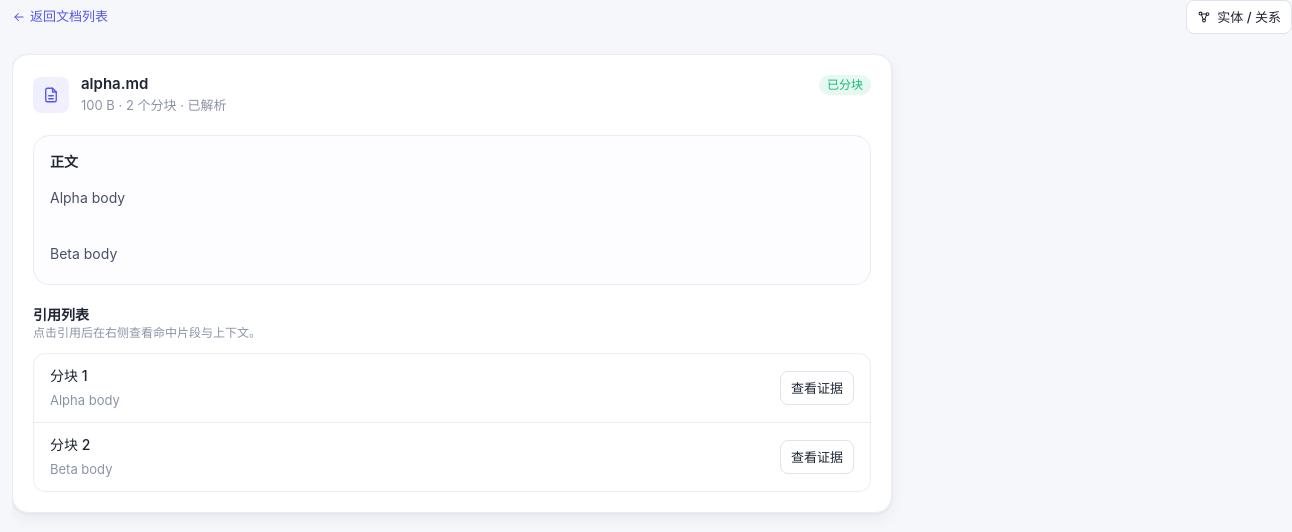
Test: closes evidence drawer without removing document body
Step 1. Click the button with aria-label "查看证据 分块 1" → (817, 388), box [780,371,854,405]
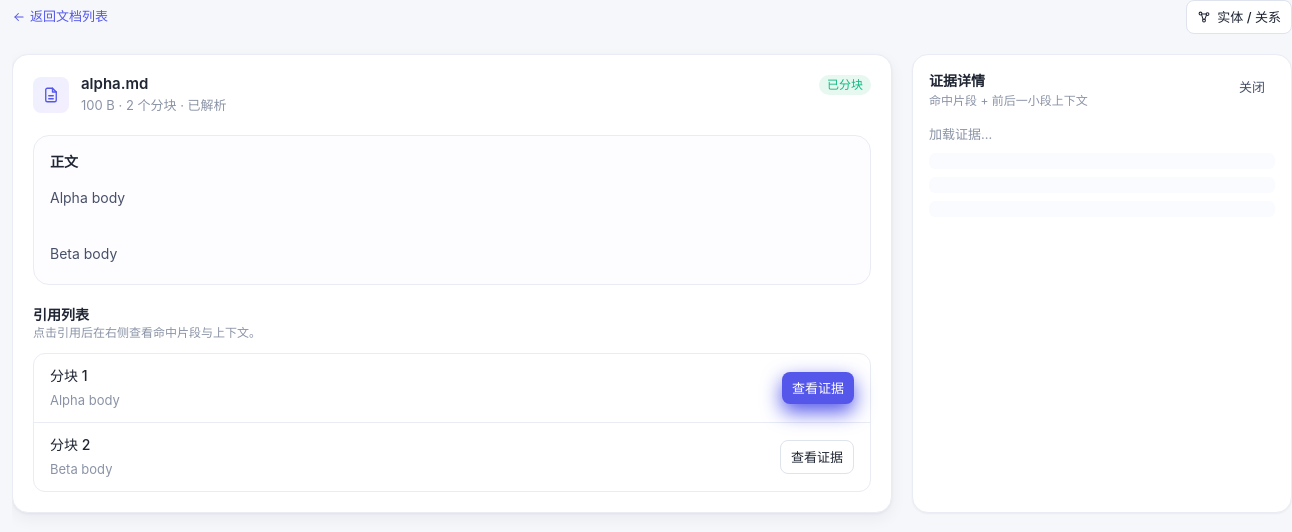
Result: the heading "证据详情" is shown at [929,72,985,89]
Step 2. Click the button with aria-label "关闭证据抽屉" → (1252, 87), box [1229,71,1275,103]
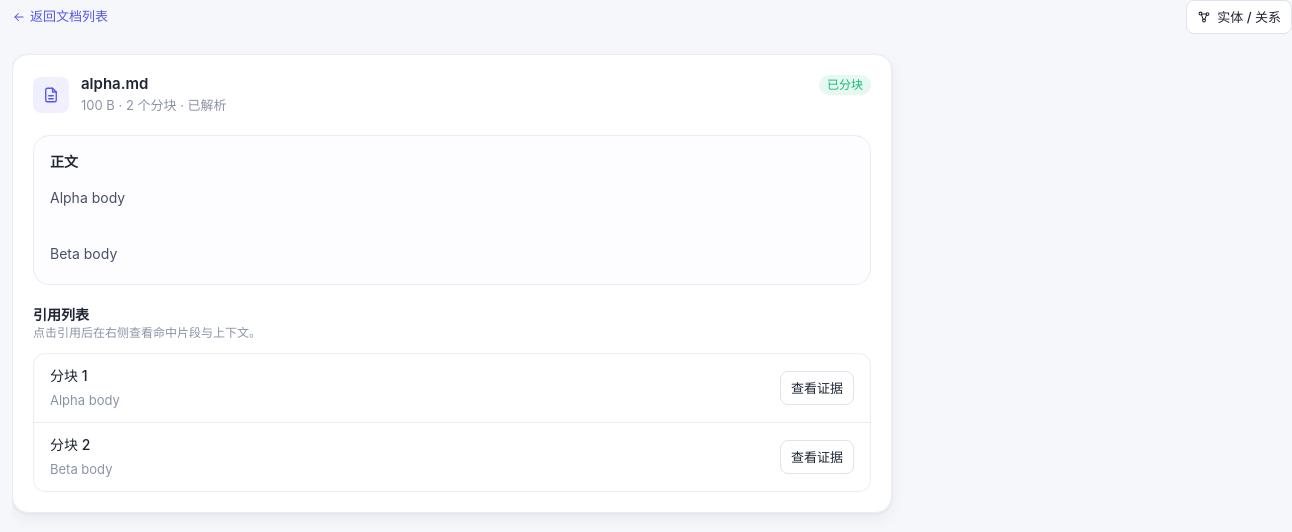
Expected: the text "Alpha body Beta body" is shown, [50,189,125,262]
Result: the heading "证据详情" is gone
